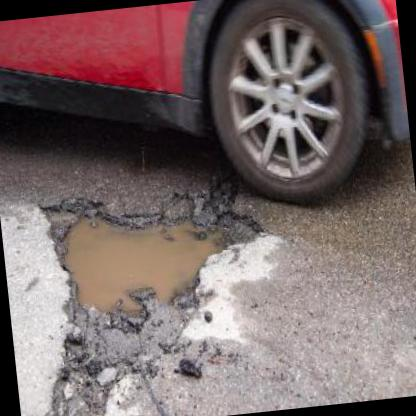pothole: (35, 173, 271, 326)
